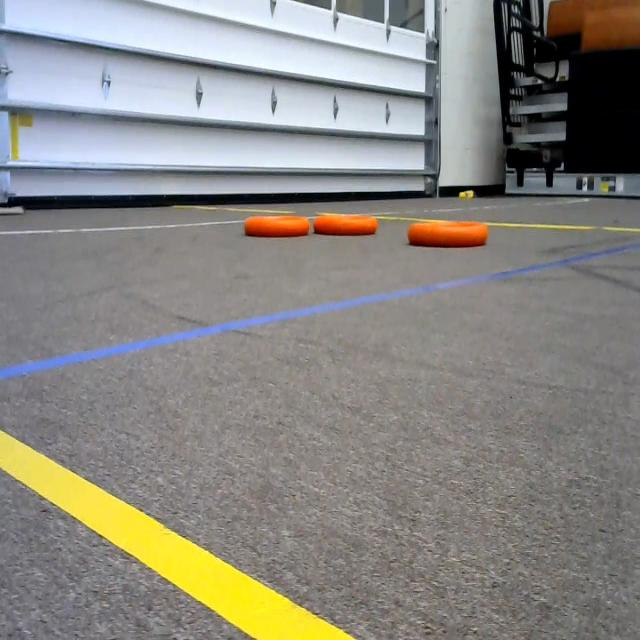note: (404, 206, 498, 256), (237, 201, 318, 247), (313, 201, 391, 244)
